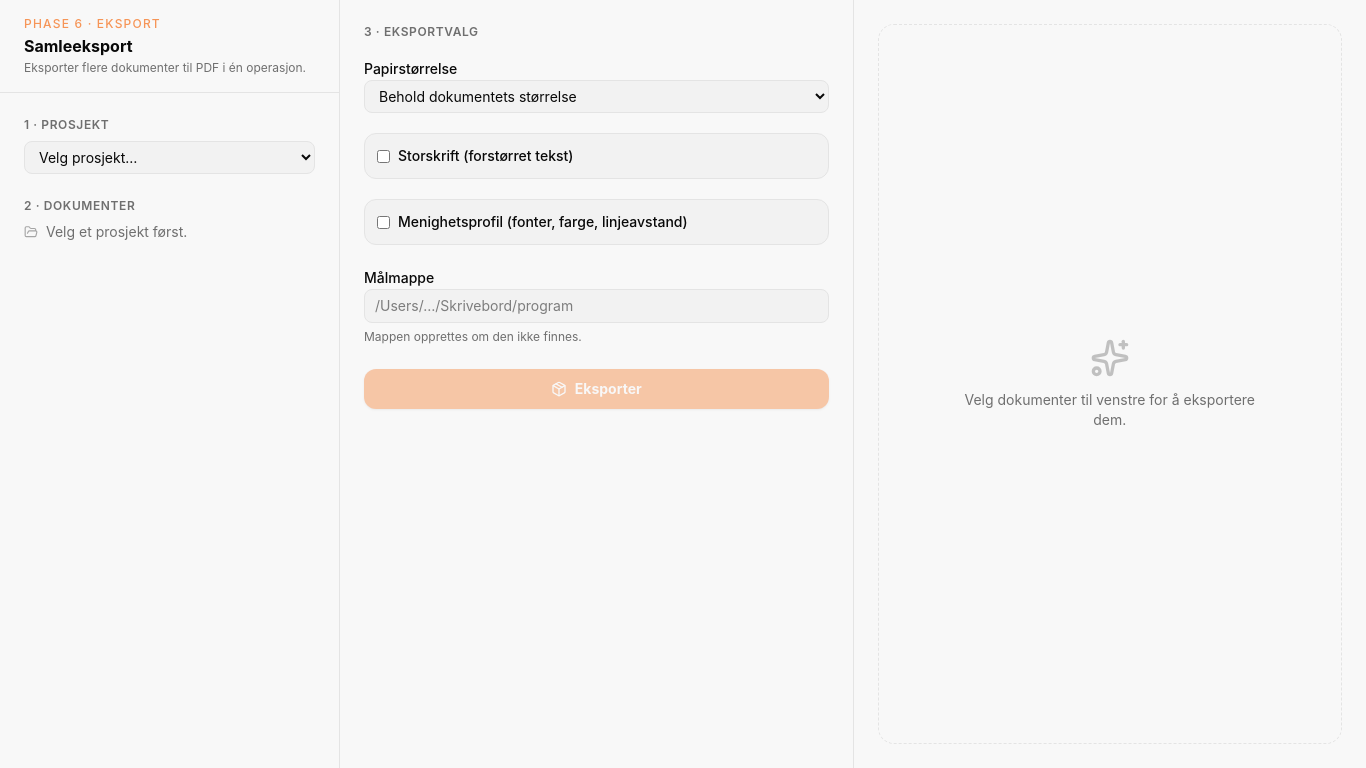
it: ExportPage › keeps the export button disabled until a doc and a folder are chosen
Select "Sommer 2026" in the dropdown named "Velg prosjekt" at [170, 158], box [24, 141, 315, 174]
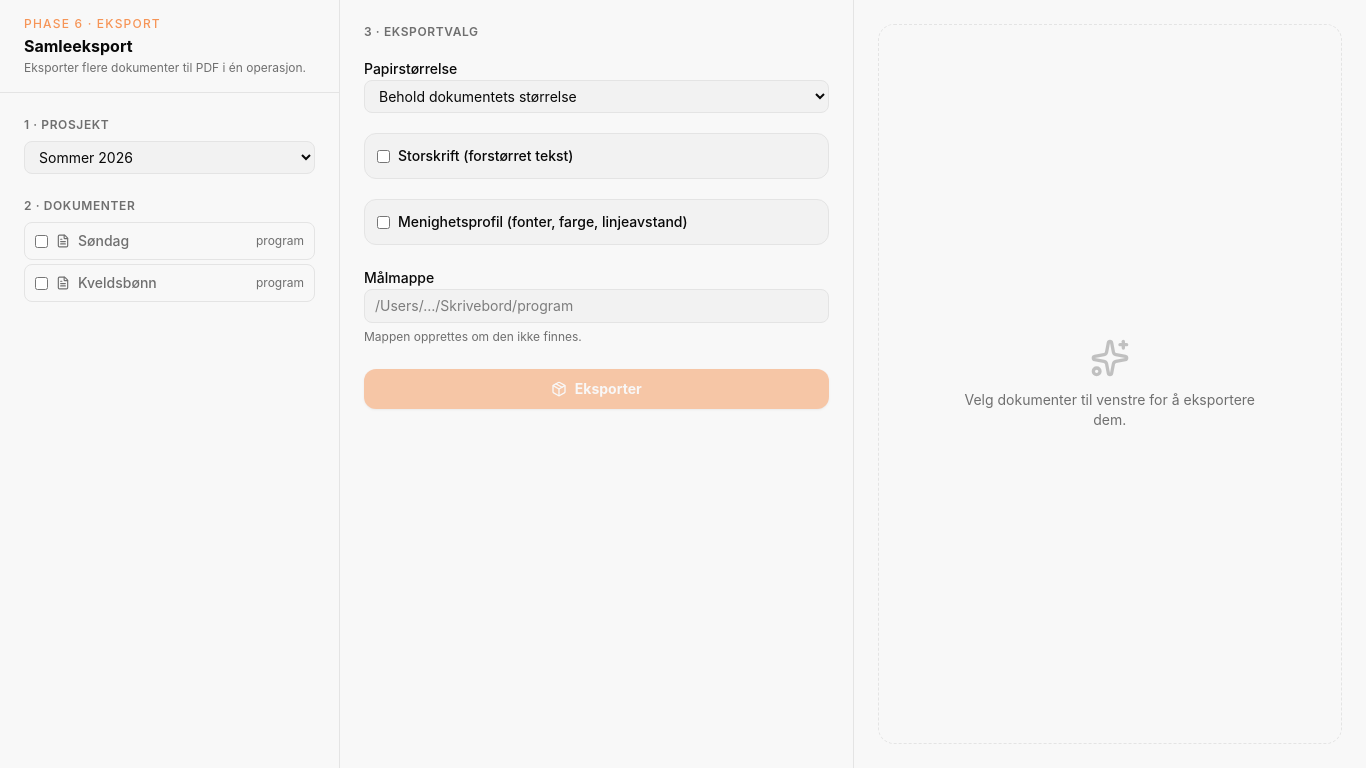
Expected: the button "Eksporter" is disabled, [364, 369, 828, 409]
Result: the checkbox named "Velg Søndag" is shown
Click the checkbox named "Velg Søndag".
click(42, 241)  # box [35, 234, 48, 248]
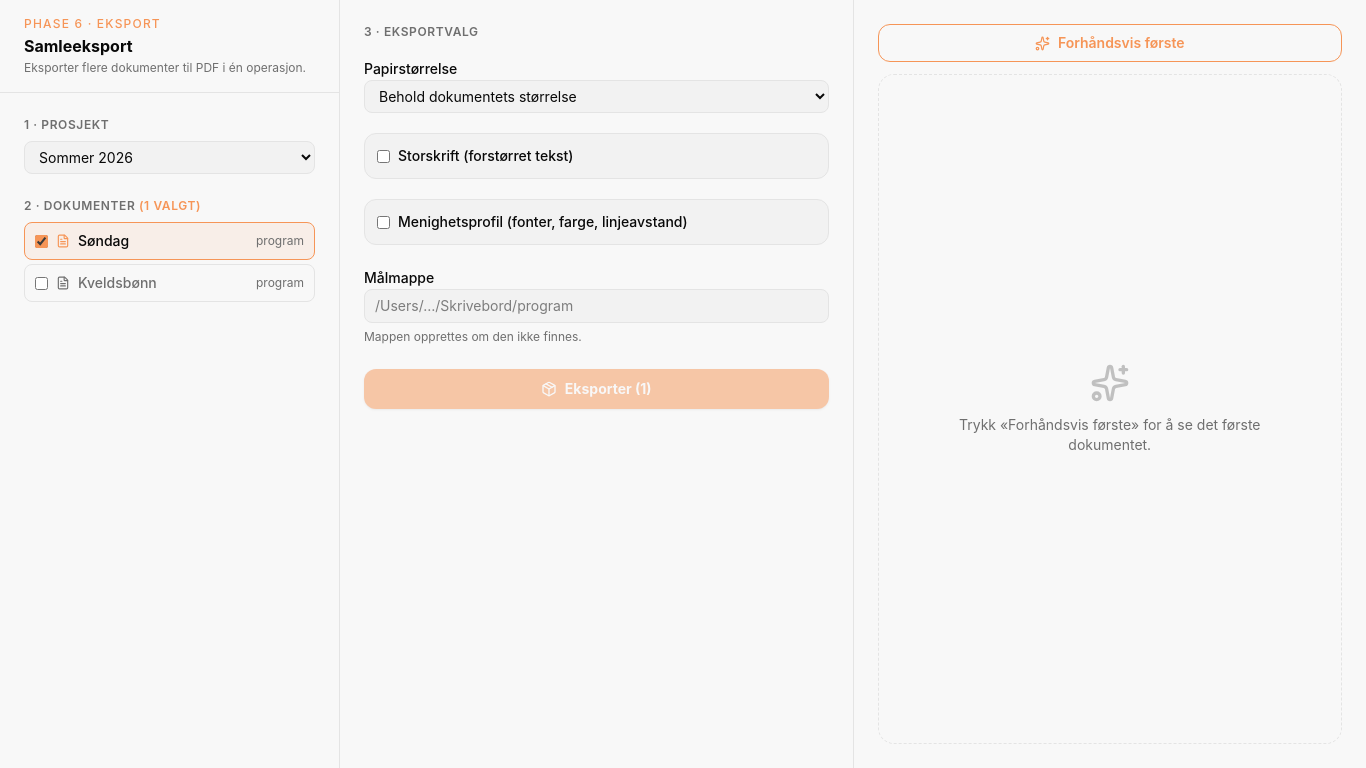
Expected: the button "Eksporter (1)" is disabled, [364, 369, 828, 409]
Type "/tmp/out" into the field labelled "Målmappe".
click(596, 306); type("/tmp/out")  # box [364, 289, 828, 323]
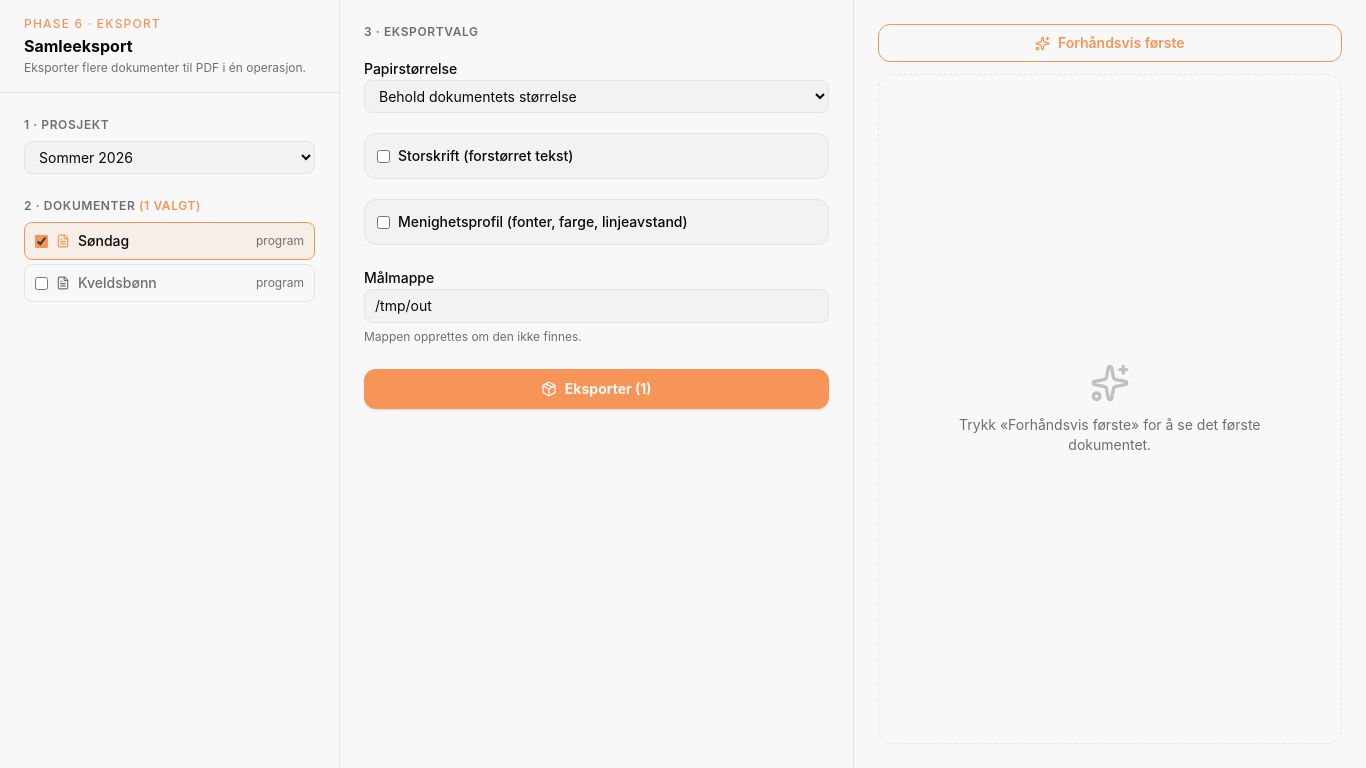
Result: the button "Eksporter (1)" is enabled at [364, 369, 828, 409]
